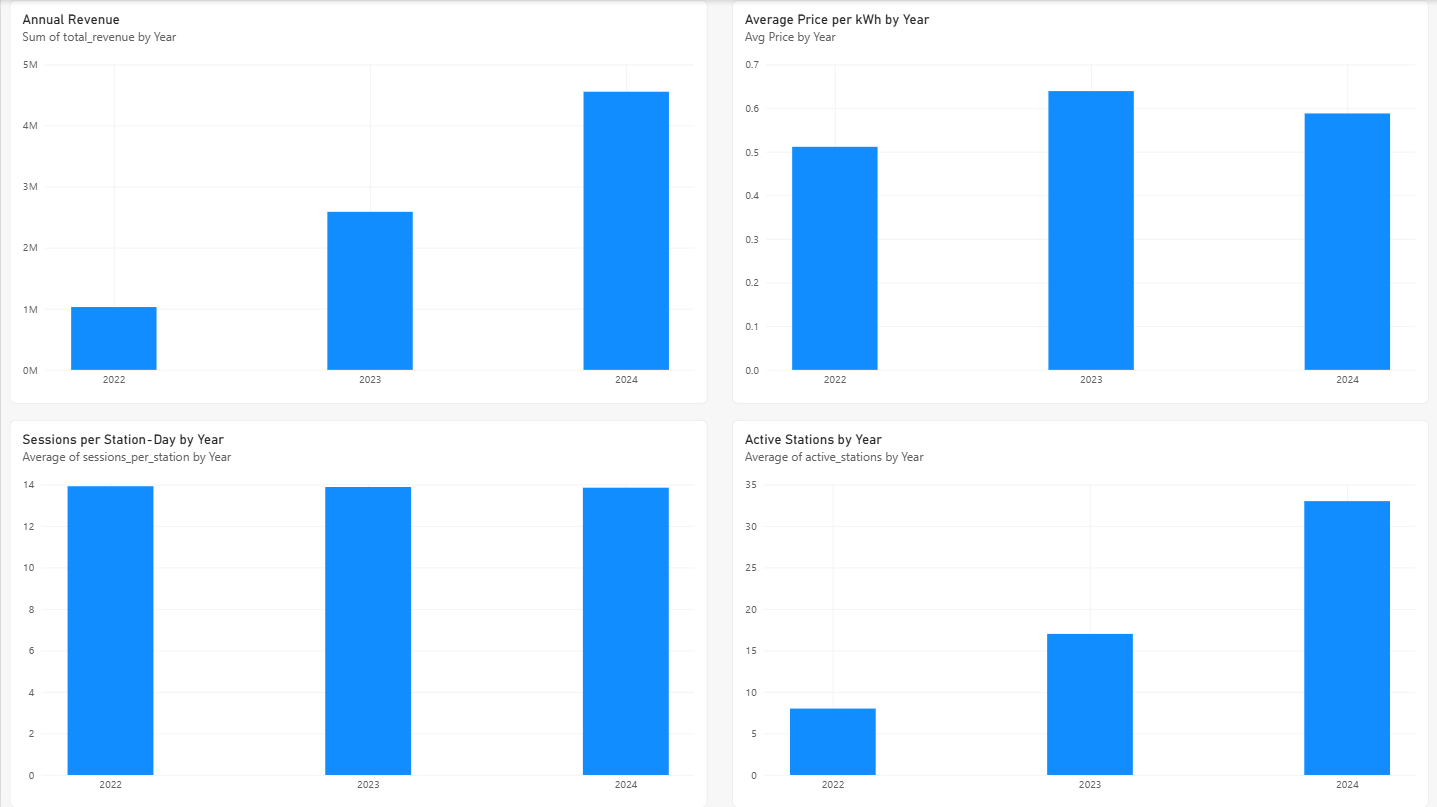

The page's visual inventory and layout, read from the dashboard file:
{"tool":"powerbi","page":{"name":"Revenue, Price & Demand","canvas":[1920,1080],"ordinal":0},"visuals":[{"type":"clusteredColumnChart","title":"Annual Revenue","fields":{"Category":["daily_revenue.date.Variation.Date Hierarchy.Year","daily_revenue.date.Variation.Date Hierarchy.Quarter","daily_revenue.date.Variation.Date Hierarchy.Month","daily_revenue.date.Variation.Date Hierarchy.Day"],"Y":["Sum(daily_revenue.total_revenue)"]},"box":[10.9,0,932,539.3],"z":0},{"type":"clusteredColumnChart","title":"Average Price per kWh by Year","fields":{"Category":["daily_revenue.date.Variation.Date Hierarchy.Year","daily_revenue.date.Variation.Date Hierarchy.Quarter","daily_revenue.date.Variation.Date Hierarchy.Month","daily_revenue.date.Variation.Date Hierarchy.Day"],"Y":["daily_revenue.Avg Price"]},"box":[977.2,0,930.2,539.3],"z":1000},{"type":"clusteredColumnChart","title":"Sessions per Station-Day by Year","fields":{"Category":["daily_revenue.date.Variation.Date Hierarchy.Year","daily_revenue.date.Variation.Date Hierarchy.Quarter","daily_revenue.date.Variation.Date Hierarchy.Month","daily_revenue.date.Variation.Date Hierarchy.Day"],"Y":["Avg(daily_revenue.sessions_per_station)"]},"box":[10.9,561,932,519.4],"z":2000},{"type":"clusteredColumnChart","title":"Active Stations by Year","fields":{"Category":["daily_revenue.date.Variation.Date Hierarchy.Year","daily_revenue.date.Variation.Date Hierarchy.Quarter","daily_revenue.date.Variation.Date Hierarchy.Month","daily_revenue.date.Variation.Date Hierarchy.Day"],"Y":["Avg(daily_revenue.active_stations)"]},"box":[977.2,561,930.2,519.4],"z":3000}]}

Visuals, with their boxes in screenshot pixels (x1, y1, x2, y2), scaled from the page's 1920x1080 canvas onto the 1437x807 screenshot:
"Annual Revenue" clusteredColumnChart: 8,0,706,403
"Average Price per kWh by Year" clusteredColumnChart: 731,0,1428,403
"Sessions per Station-Day by Year" clusteredColumnChart: 8,419,706,806
"Active Stations by Year" clusteredColumnChart: 731,419,1428,806
